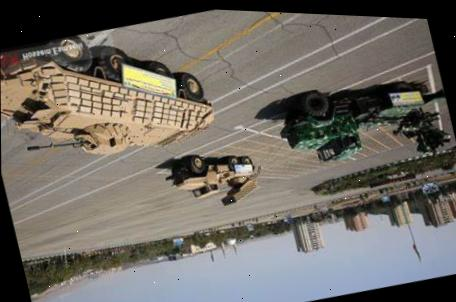armored_car: (0, 5, 220, 190)
truck: (271, 60, 452, 183)
